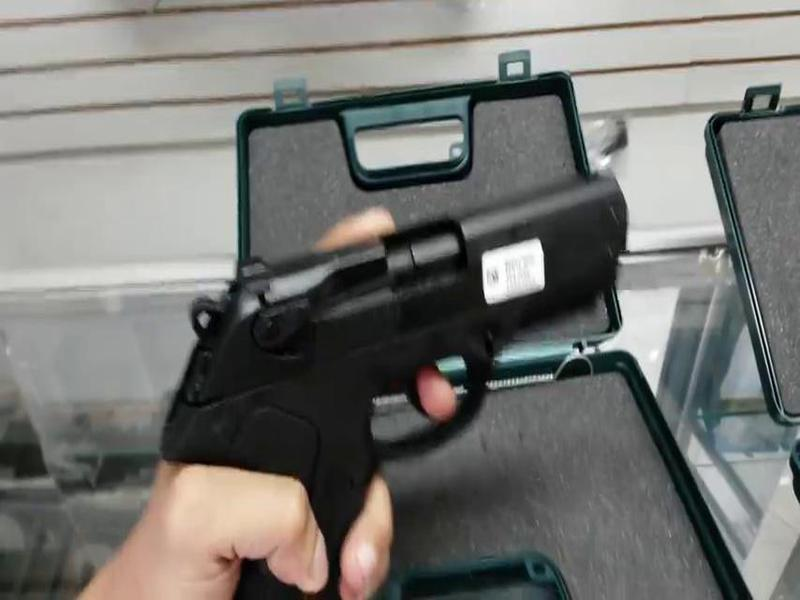Pistola: (158, 163, 625, 597)
